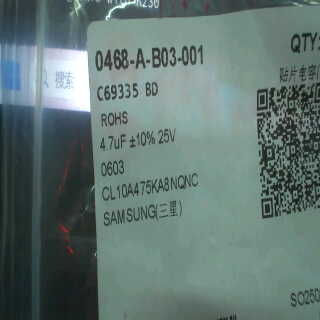4.7uF: (94, 133, 128, 155)
